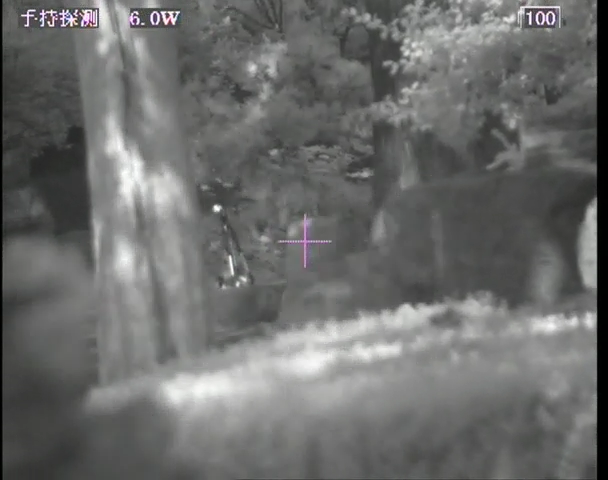my: (211, 203, 223, 214)
